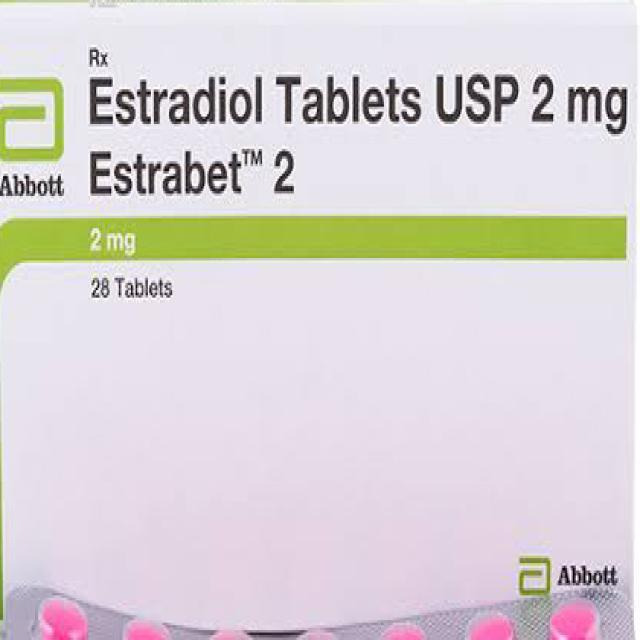drug-name: (85, 146, 301, 200)
